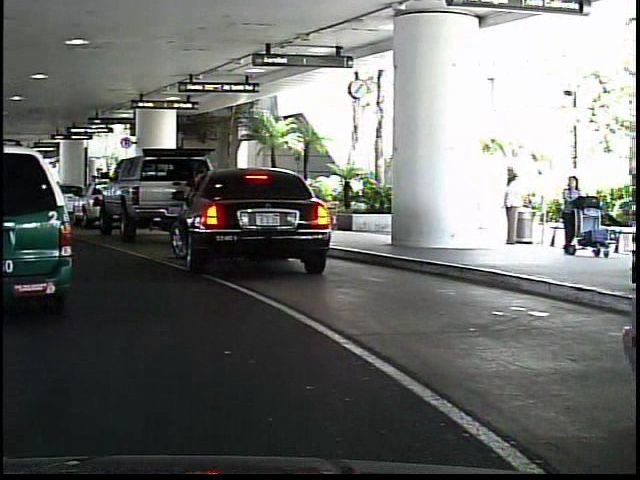person: (555, 169, 585, 261)
